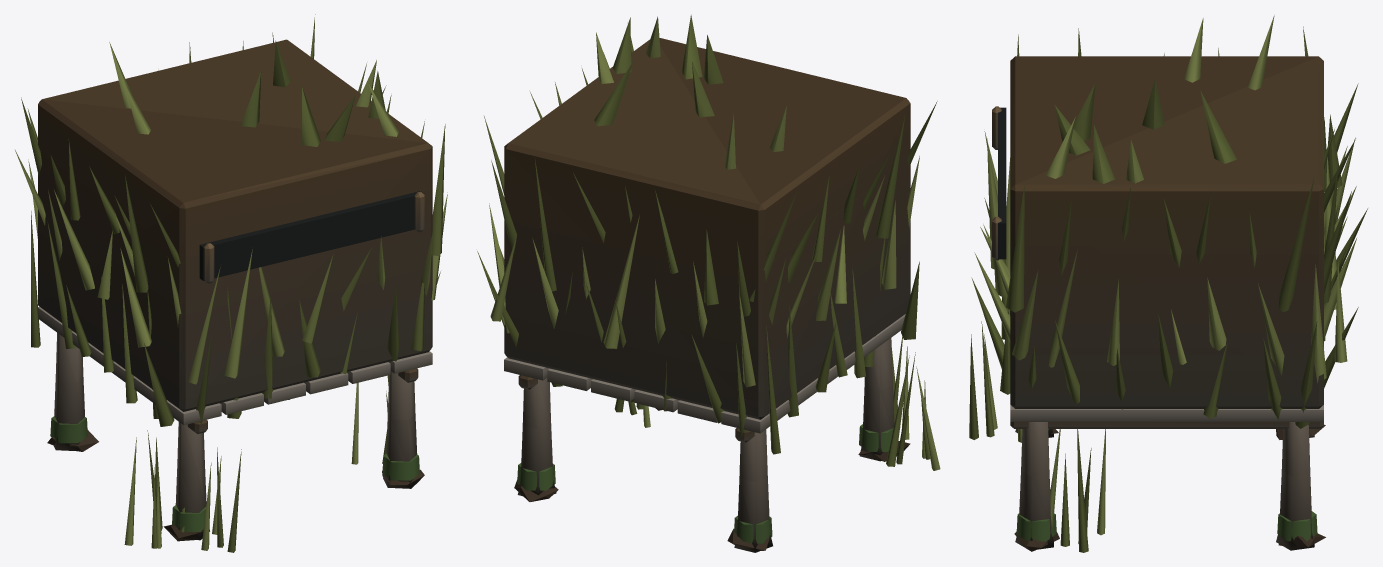
Rendered from duck-blind.glb.
The picture shows the model from 3 angles, left to right: view 1: azimuth 30°, elevation 25°; view 2: azimuth 150°, elevation 25°; view 3: azimuth 270°, elevation 25°; orthographic projection. The views are drawn at different scales.
Parts seen in each view (by area): view 1: duck_blind; view 2: duck_blind; view 3: duck_blind.
Part boxes in pixels (x1=…): duck_blind: x1=15, y1=14, x2=447, y2=552; duck_blind: x1=477, y1=14, x2=940, y2=552; duck_blind: x1=969, y1=15, x2=1367, y2=552.
Size of the model in its own units: 2.47 by 2.93 by 2.42.
